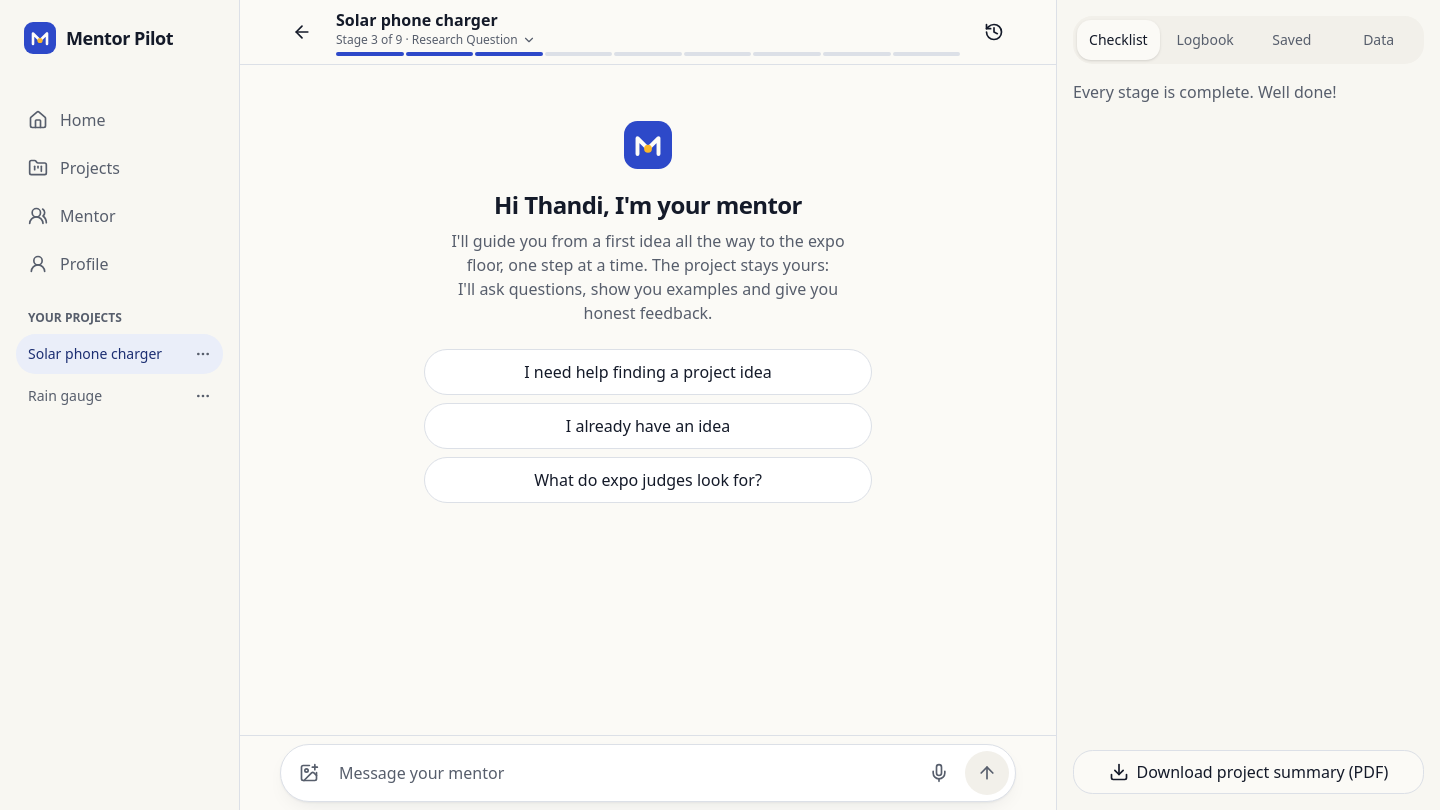
Test case: sidebar › deletes a project from its menu, after asking
Click the button named "More options for Solar phone charger".
click(203, 354)  # box [187, 338, 219, 370]
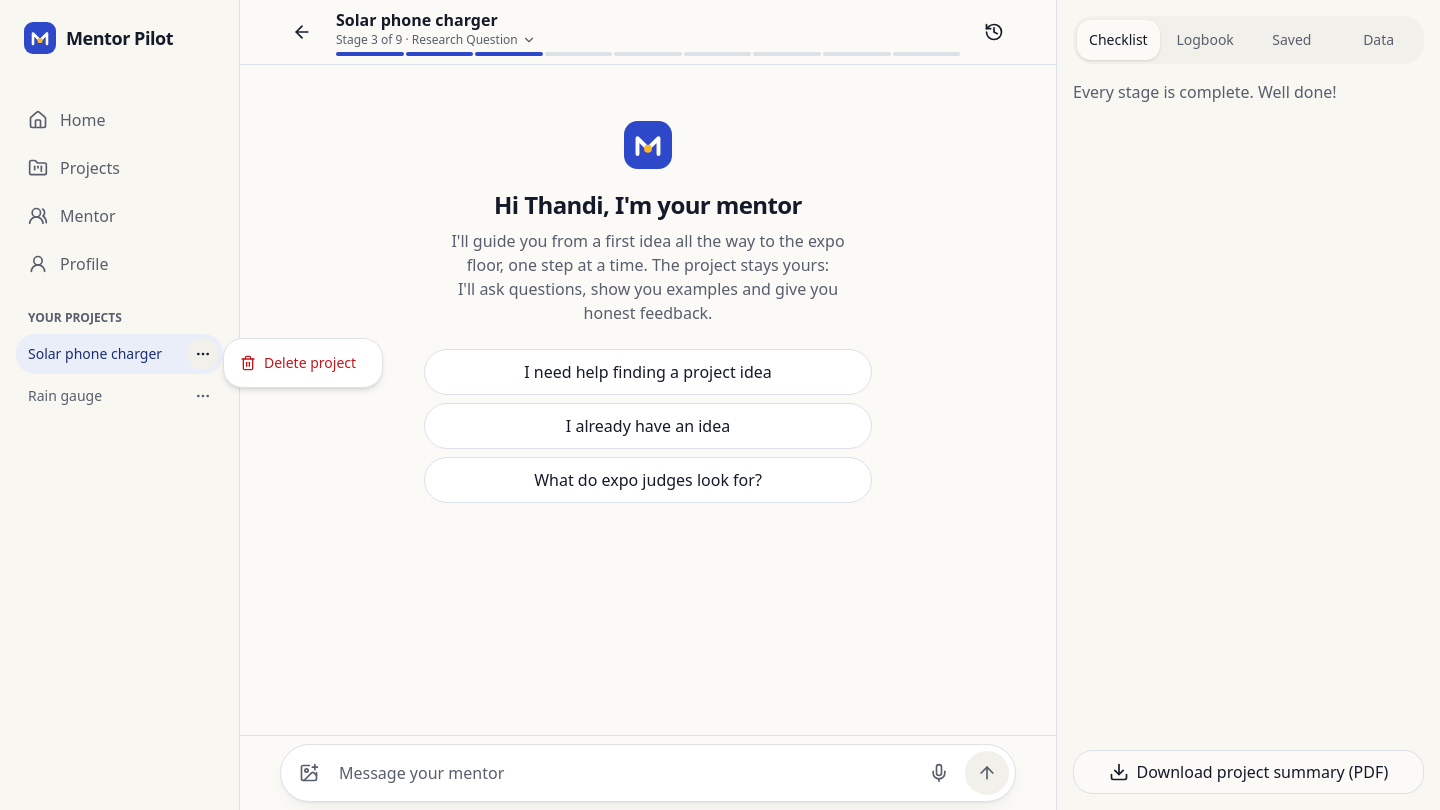
Click the menu item "Delete project".
click(298, 362)  # box [240, 353, 356, 372]
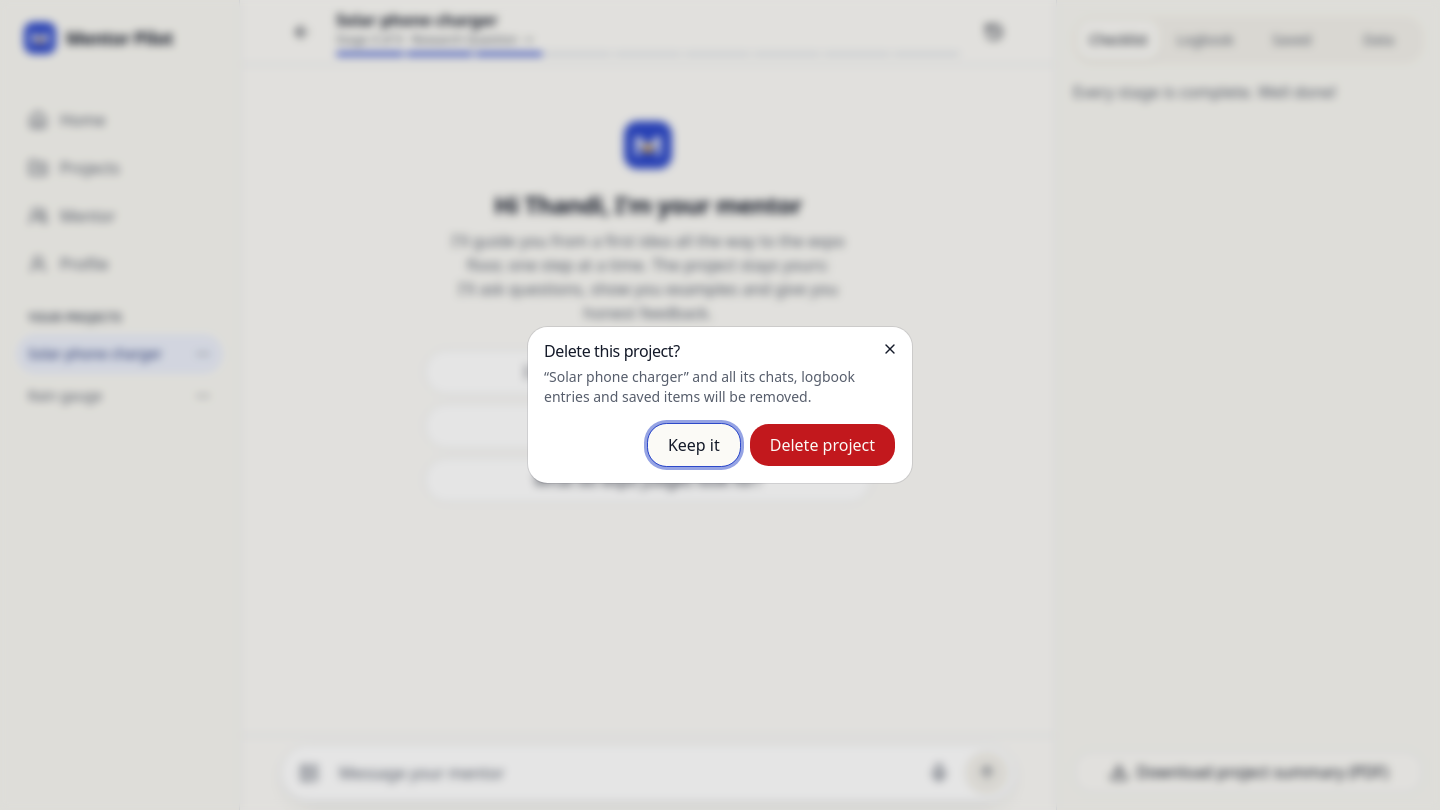
Click the button "Delete project".
click(822, 445)  # box [749, 423, 896, 467]
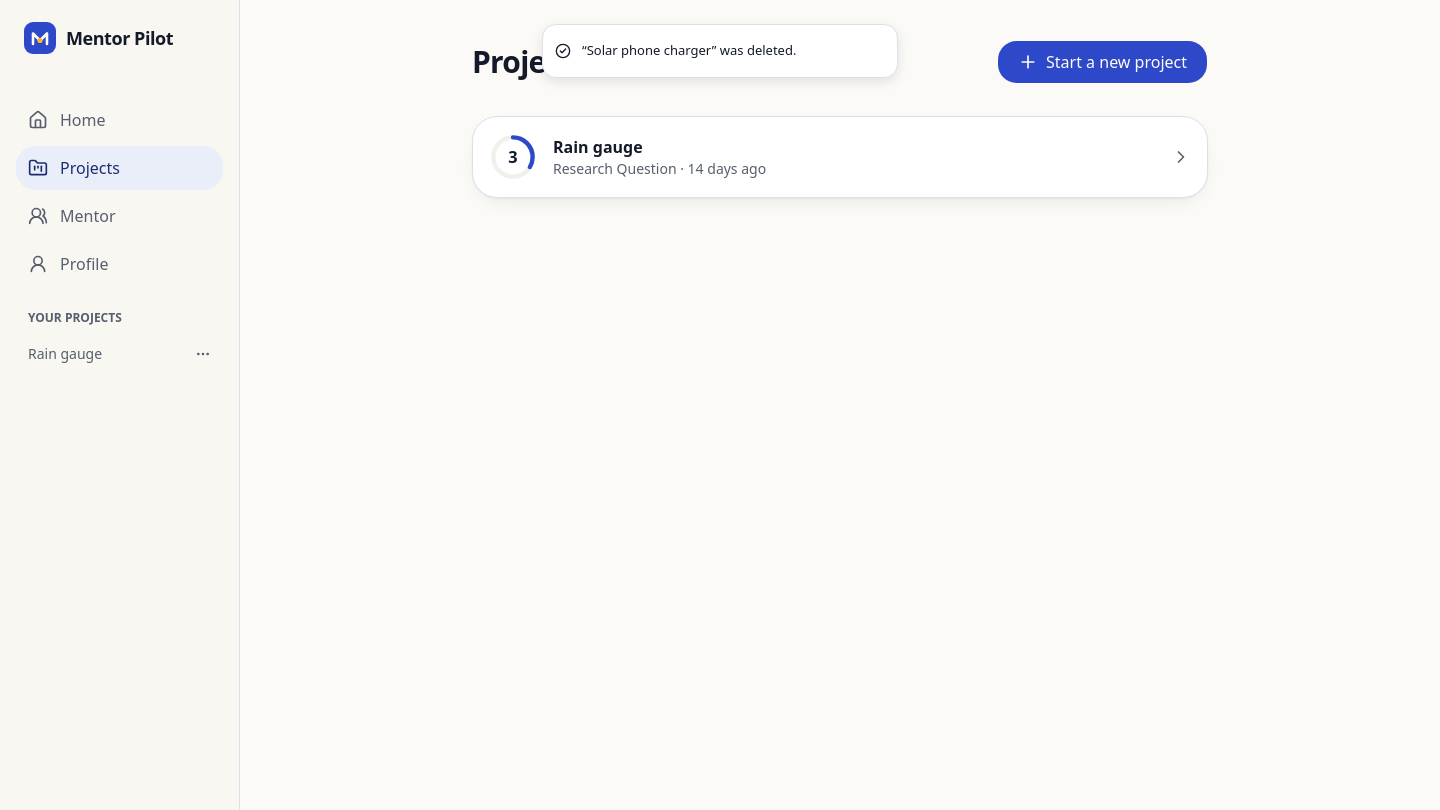
Now the text "“Solar phone charger” was deleted." is shown, box [582, 41, 796, 60]
